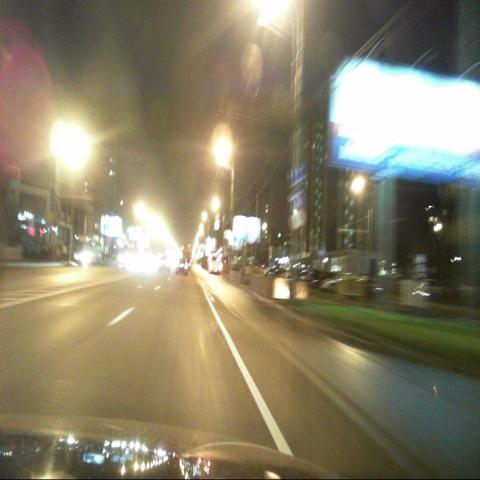6_6: (295, 164, 307, 185)
